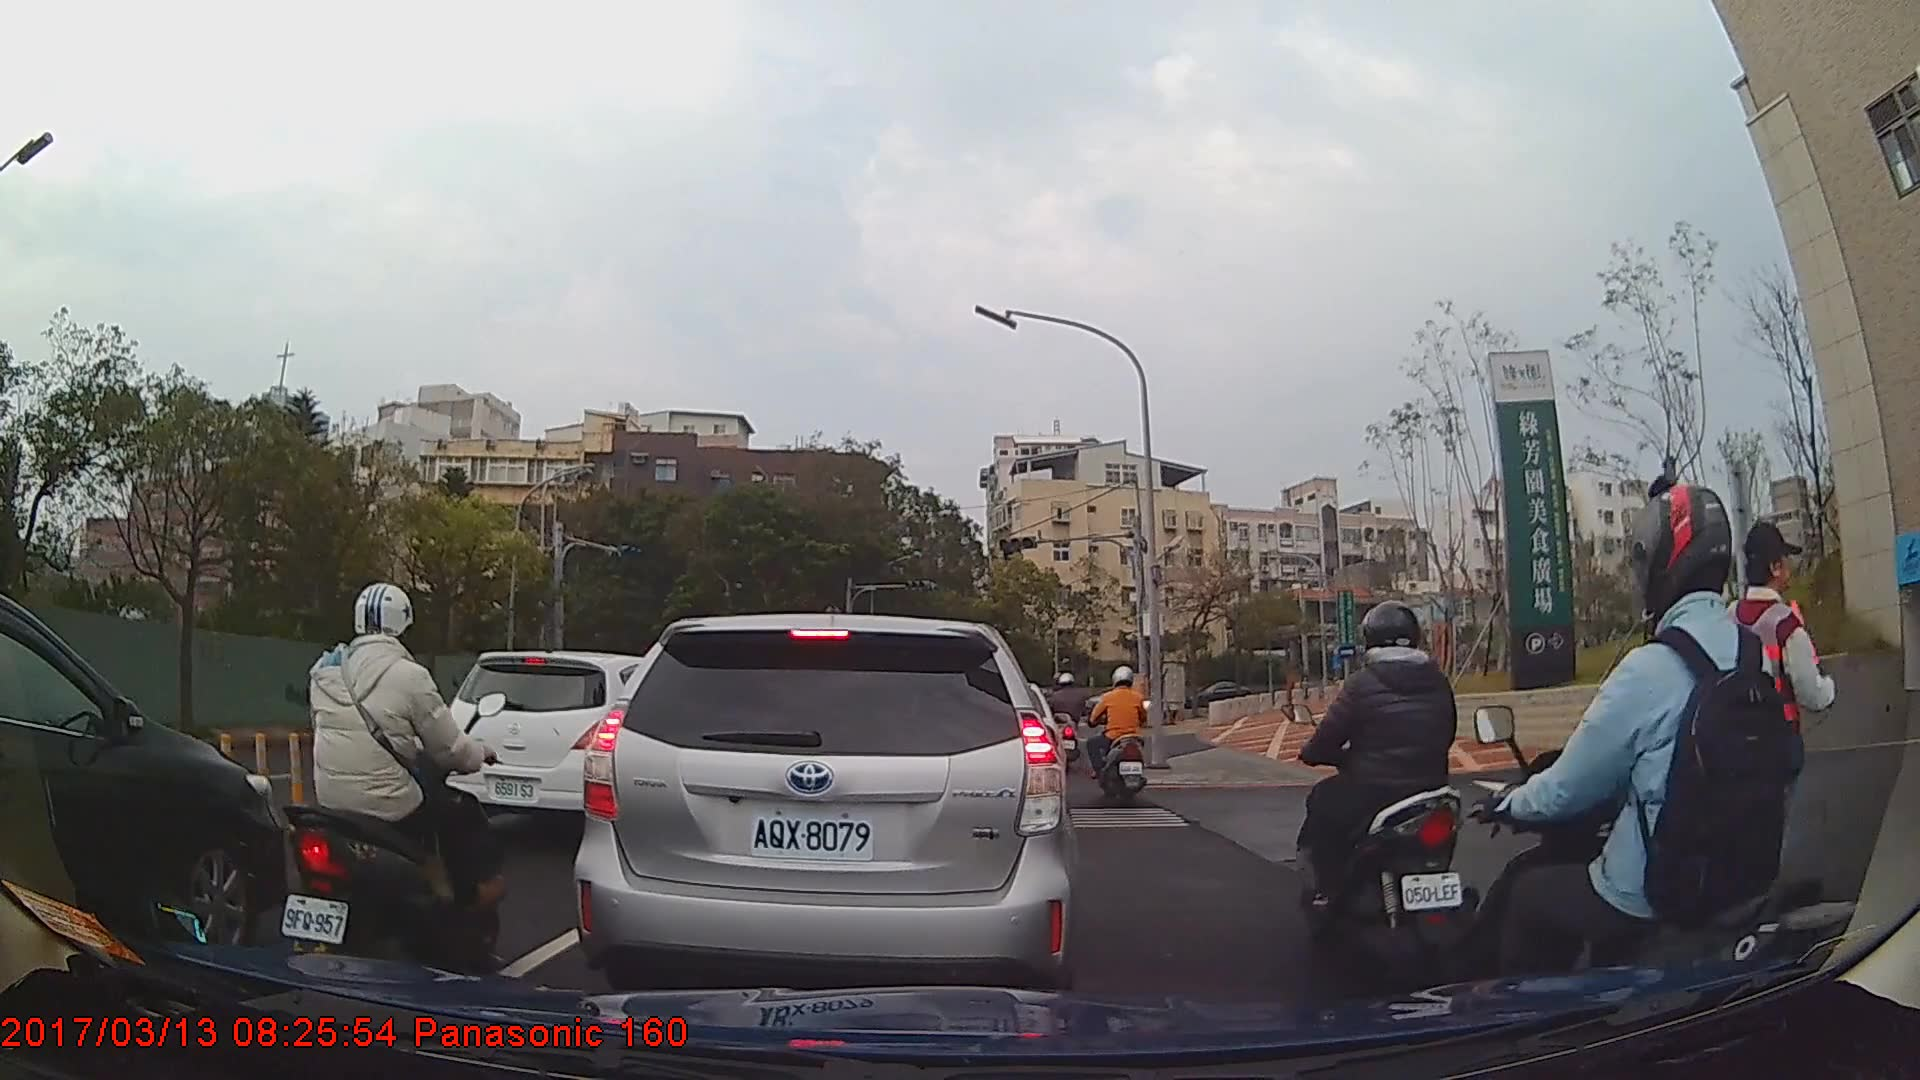rider: (1451, 481, 1874, 1076), (278, 580, 510, 990), (1298, 598, 1474, 973), (1086, 663, 1150, 804), (1046, 671, 1086, 769)
vehicle: (570, 612, 1076, 992), (0, 590, 291, 965), (434, 648, 671, 838), (1184, 679, 1254, 717)
